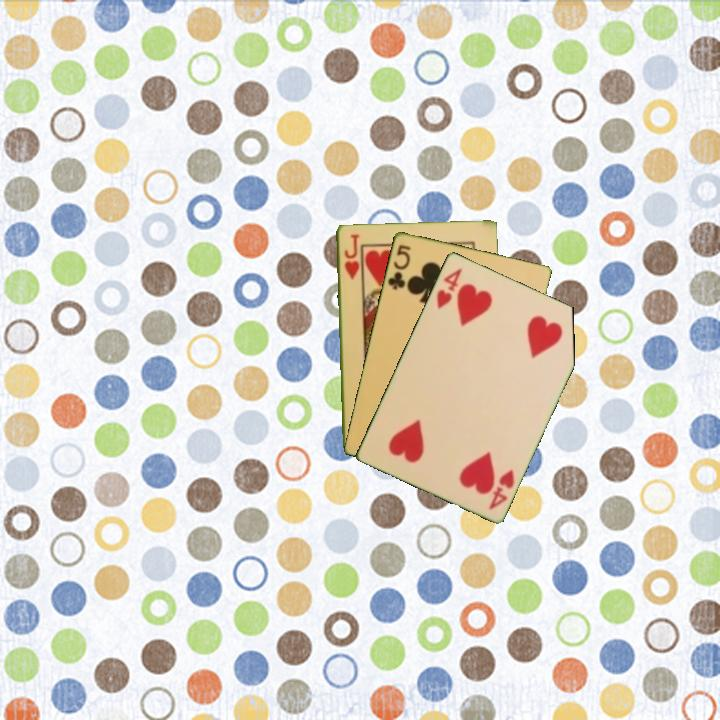4h: (433, 264, 465, 312), (485, 465, 517, 512)
5c: (384, 241, 413, 292)
Jh: (341, 230, 362, 282)
